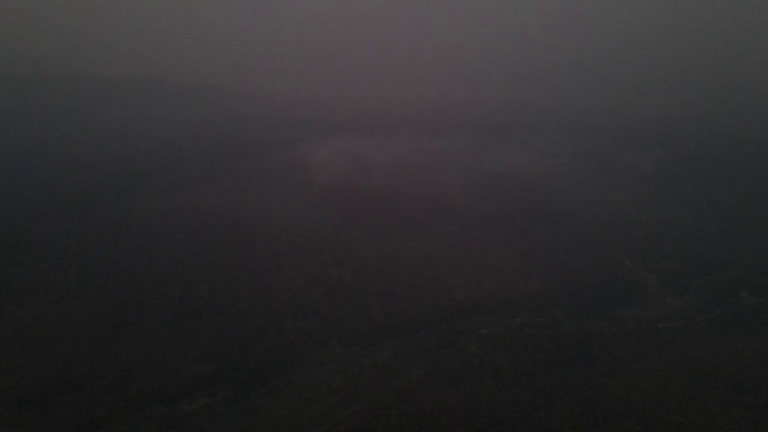smoke: (295, 133, 477, 192)
